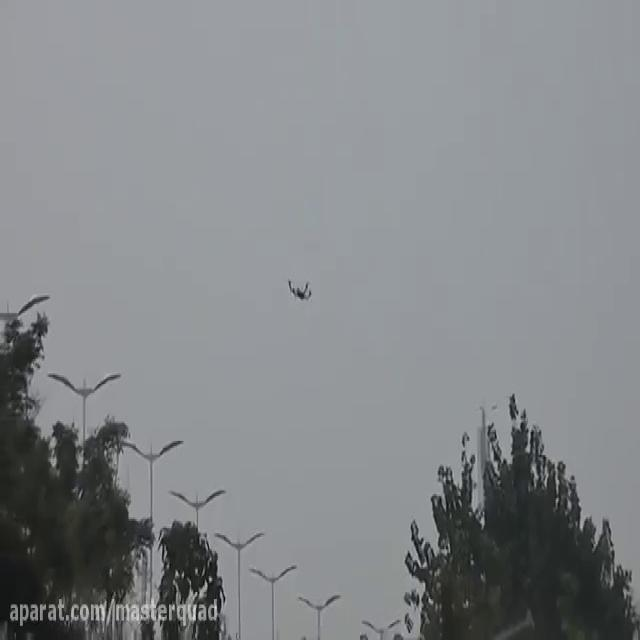drone: (283, 274, 314, 306)
